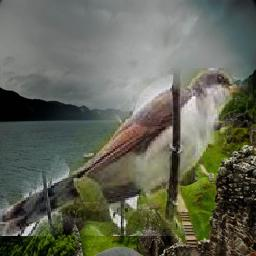Cuckoo: (0, 68, 253, 236)
